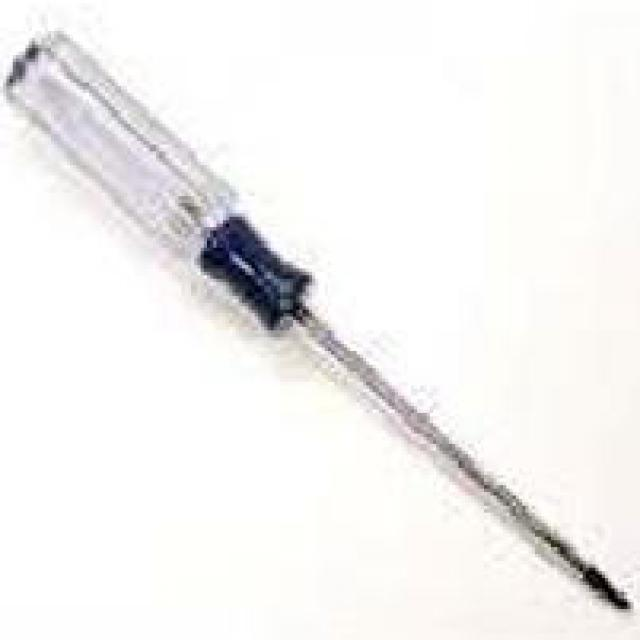screwdriver: (0, 22, 639, 616)
